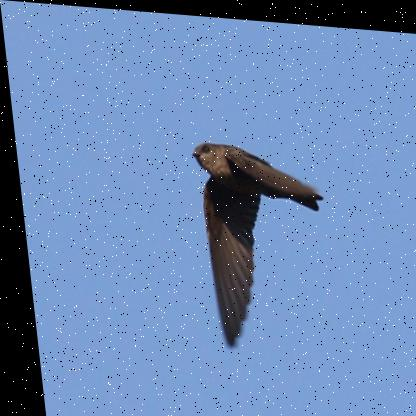Burung: (188, 138, 334, 350)
